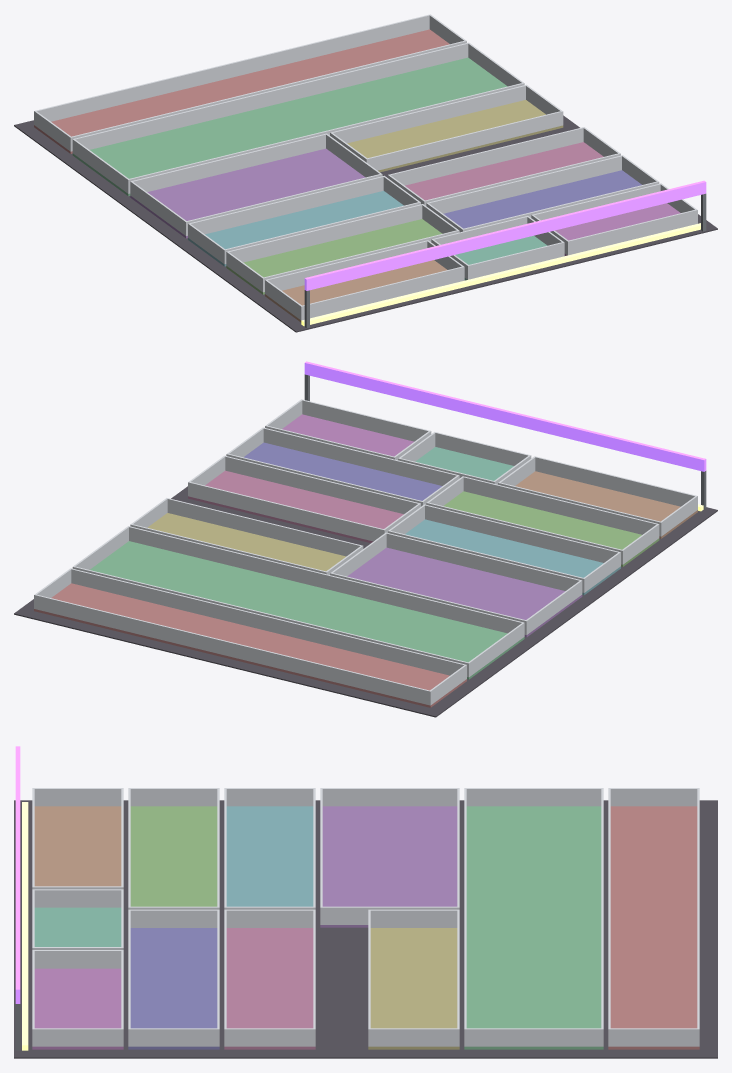
File: hall-port-crane.glb
The picture shows the model from 3 angles, top to bottom: view 1: azimuth 30°, elevation 25°; view 2: azimuth 150°, elevation 25°; view 3: azimuth 270°, elevation 25°; orthographic projection. The views are drawn at different scales.
Parts seen in each view (by area): view 1: Port Crane Technicians; view 2: Port Crane Technicians; view 3: Port Crane Technicians.
Part boxes in pixels (x1,y1,x2,y2): Port Crane Technicians: (14,14,717,332); Port Crane Technicians: (14,361,717,717); Port Crane Technicians: (14,746,717,1058).
Size of the model in its own units: 38 by 4.3 by 44.
